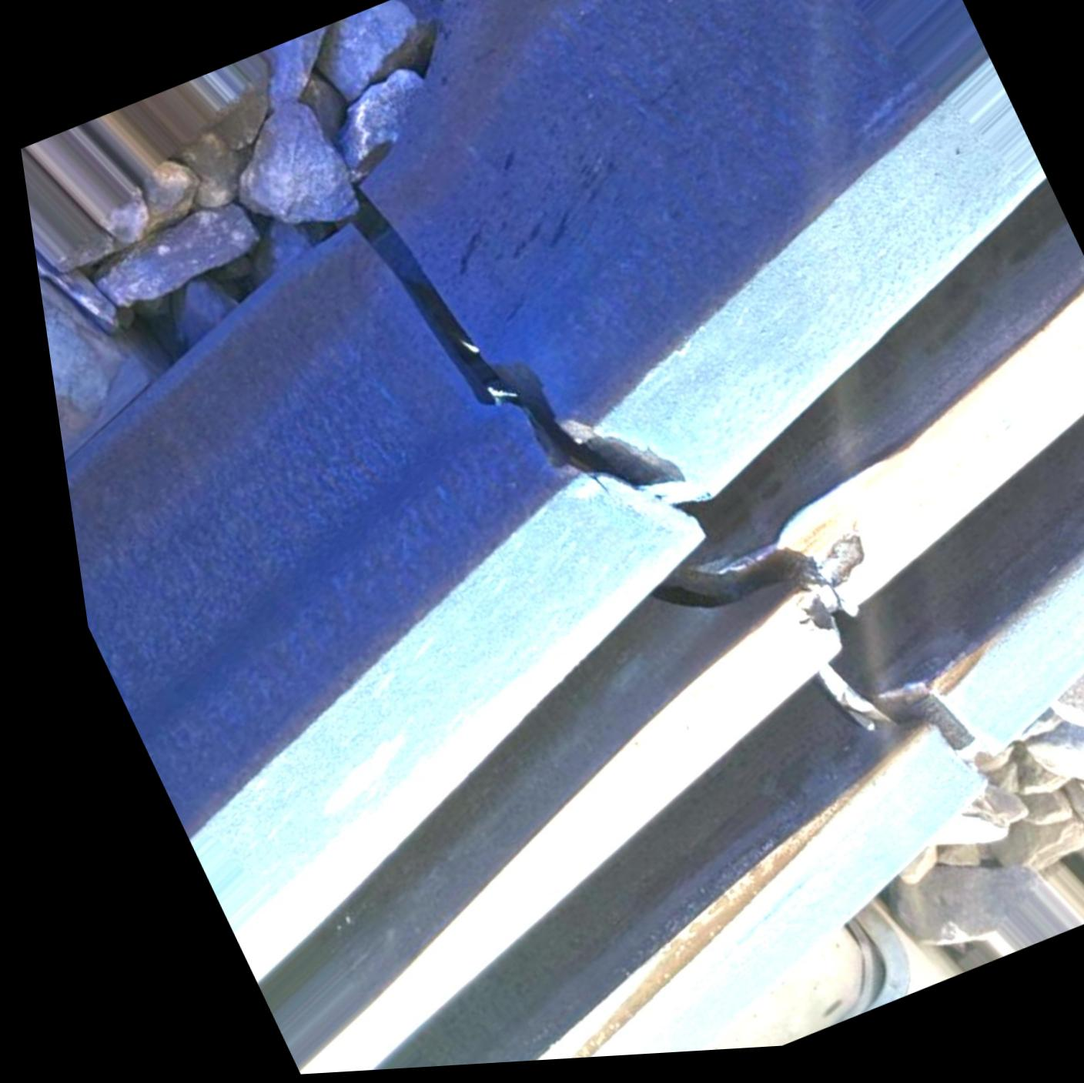person: (125, 48, 848, 720)
